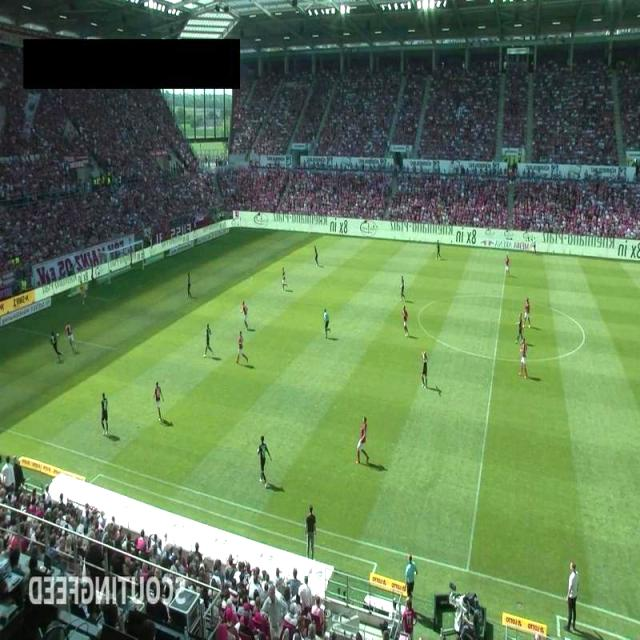bigarea_bottom_inner: (110, 342, 122, 356)
bigarea_bottom_outter: (2, 322, 13, 332)
bigarea_top_inner: (289, 244, 301, 252)
bigarea_top_outter: (208, 238, 214, 245)
bottom_arc_area_intersection: (202, 296, 213, 304)
corner: (230, 227, 240, 238)
halfcircle_bottom: (490, 353, 500, 364)
halfcircle_top: (497, 292, 508, 302)
midline_bottom_intersection: (461, 563, 474, 579)
midline_top_intersection: (502, 248, 513, 258)
smallarea_bottom_inner: (103, 294, 114, 305)
smallarea_bottom_outter: (77, 288, 88, 300)
smallarea_top_inner: (186, 257, 196, 269)
smallarea_top_outter: (158, 257, 172, 265)
top_arc_area_intersection: (241, 268, 252, 277)
